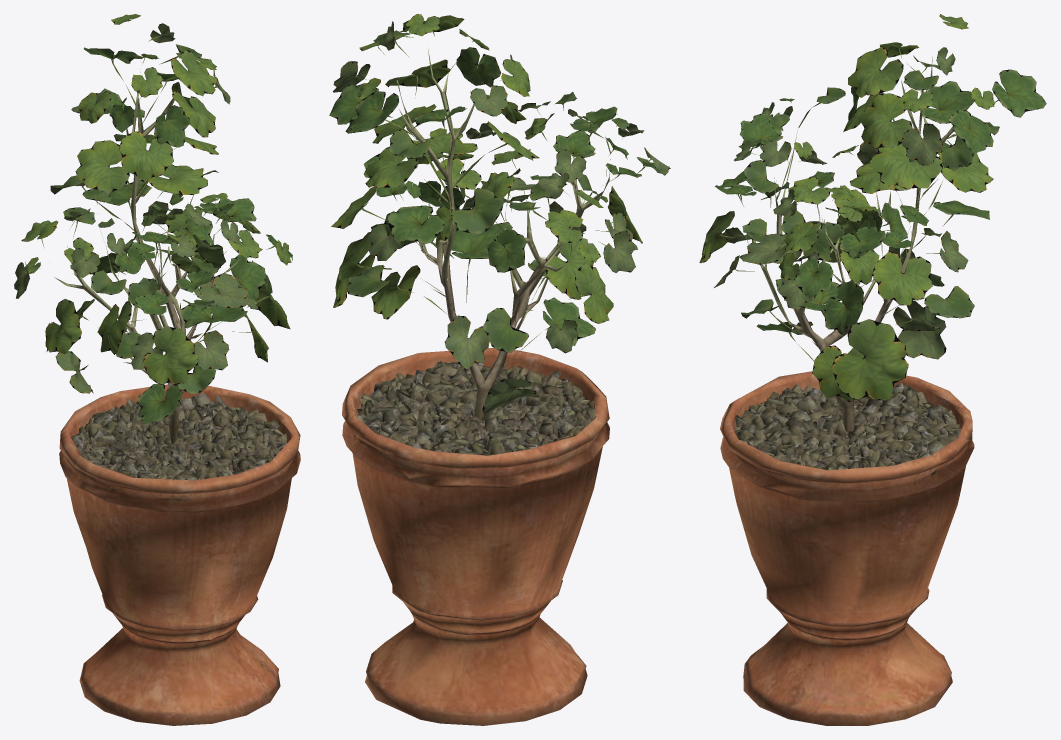
File: potted_plant_01.glb
The picture shows the model from 3 angles, left to right: view 1: azimuth 30°, elevation 25°; view 2: azimuth 150°, elevation 25°; view 3: azimuth 270°, elevation 25°; orthographic projection. The views are drawn at different scales.
Parts seen in each view (by area): view 1: potted_plant_01_pot, potted_plant_01_leaves, potted_plant_01_pebbles, potted_plant_01_stem; view 2: potted_plant_01_pot, potted_plant_01_leaves, potted_plant_01_pebbles, potted_plant_01_stem; view 3: potted_plant_01_pot, potted_plant_01_leaves, potted_plant_01_pebbles, potted_plant_01_stem.
Part boxes in pixels (box(x1,y1,x2,y2)): potted_plant_01_pot: box(59, 384, 300, 725); potted_plant_01_leaves: box(14, 14, 292, 423); potted_plant_01_pebbles: box(67, 392, 286, 490); potted_plant_01_stem: box(54, 62, 242, 444); potted_plant_01_pot: box(342, 347, 609, 725); potted_plant_01_leaves: box(329, 14, 670, 414); potted_plant_01_pebbles: box(354, 361, 595, 456); potted_plant_01_stem: box(396, 49, 610, 420); potted_plant_01_pot: box(720, 371, 974, 725); potted_plant_01_leaves: box(699, 14, 1046, 401); potted_plant_01_pebbles: box(735, 383, 960, 474); potted_plant_01_stem: box(752, 56, 965, 434).
Bounding box in the file's own units: 0.5866 × 1.33 × 0.6336.
2 materials, 2 textured.
